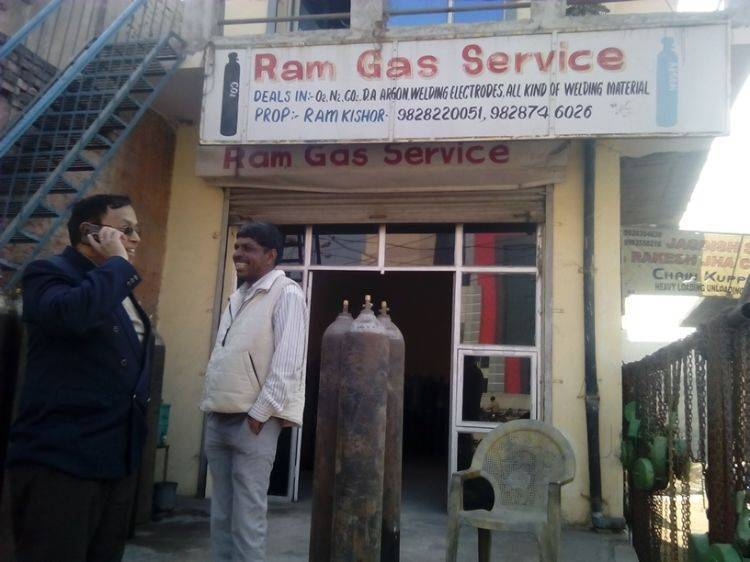noepi: (20, 188, 170, 562), (200, 219, 310, 562)
